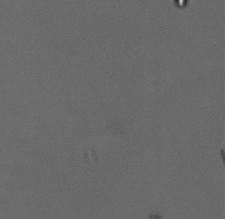Living Cell: (170, 1, 190, 8)
